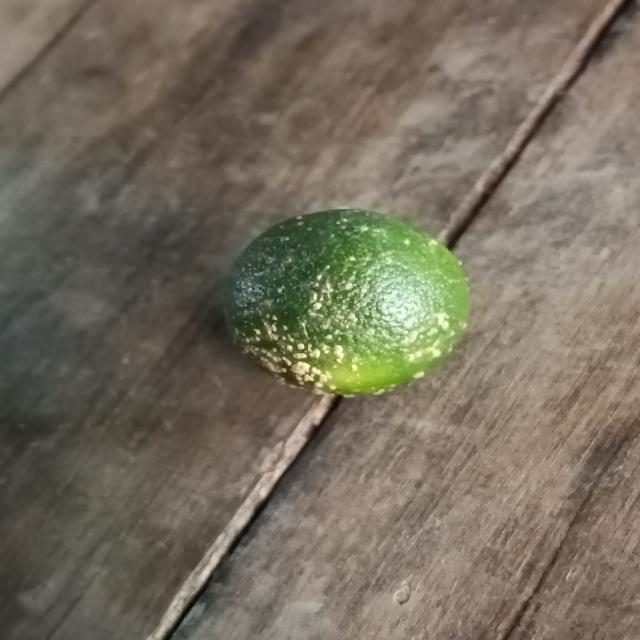scab: (218, 202, 485, 396)
